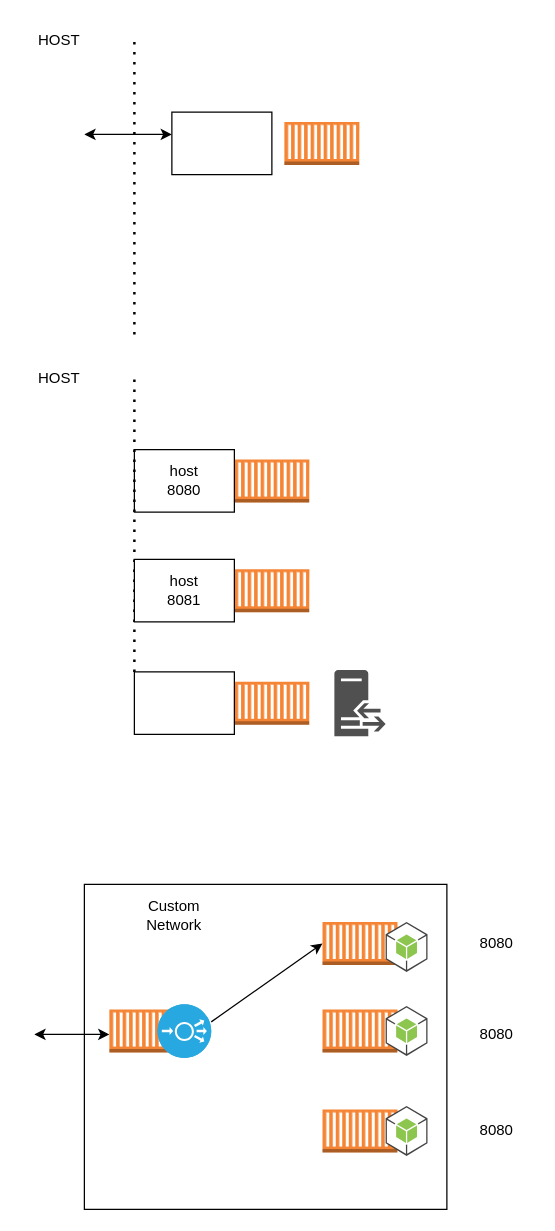
Image size: 555x1231. Some labels were removed from this diagram. Here are the shapes that lost their labels. From the top down, the centre of each, then its label:
At point (221, 143): "port fw 8080:80".
At point (183, 702): "host 8082".
